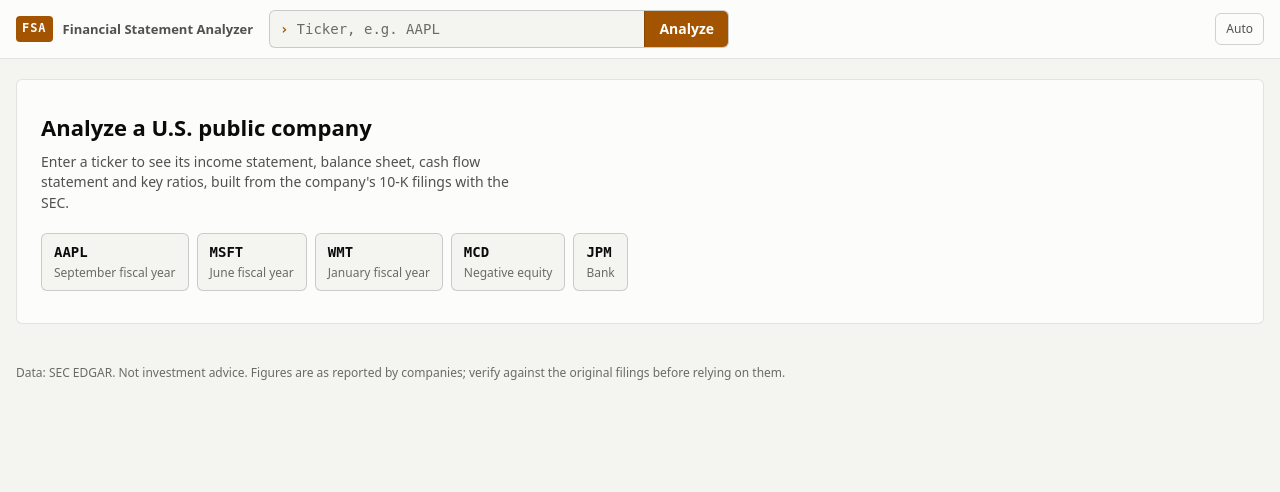
Test: AI analysis › explains the daily limit without offering a retry
This screenshot has width=1280, height=492.
Type "EXMP" into the field named "Company ticker" at (466,29), box 288,13 -> 644,45
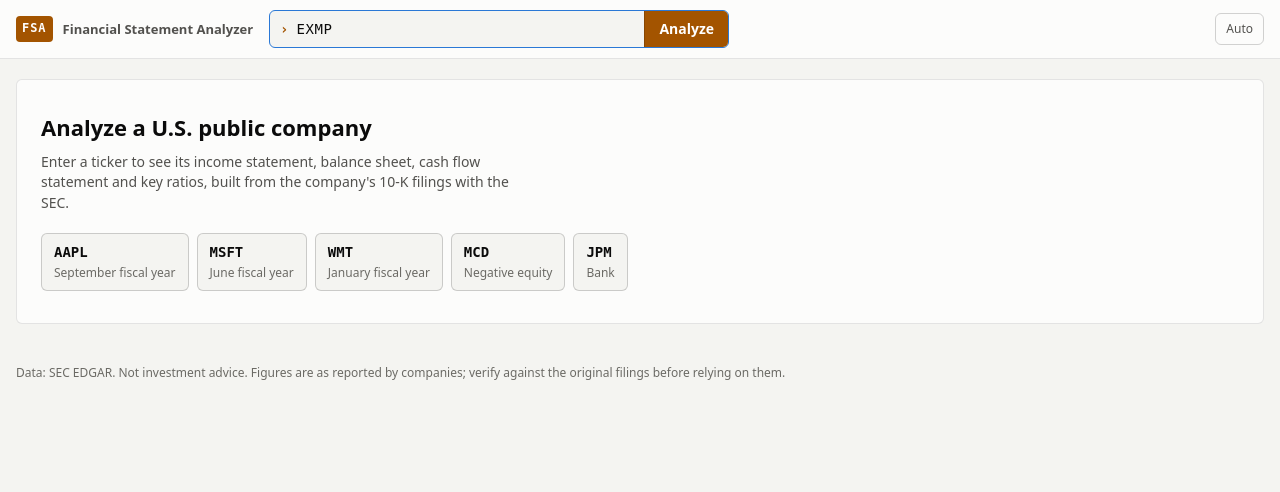
Click the button "Analyze" at (686,29), box 644,11 -> 728,47
(page scrolled)
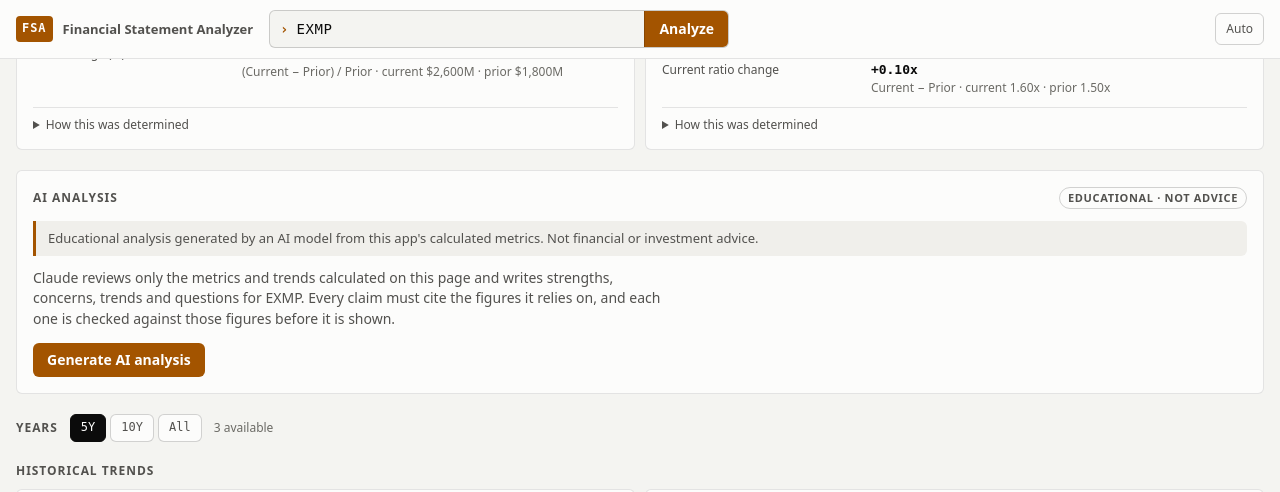
Click the button "Generate AI analysis" at (119,360), box 33,343 -> 205,377
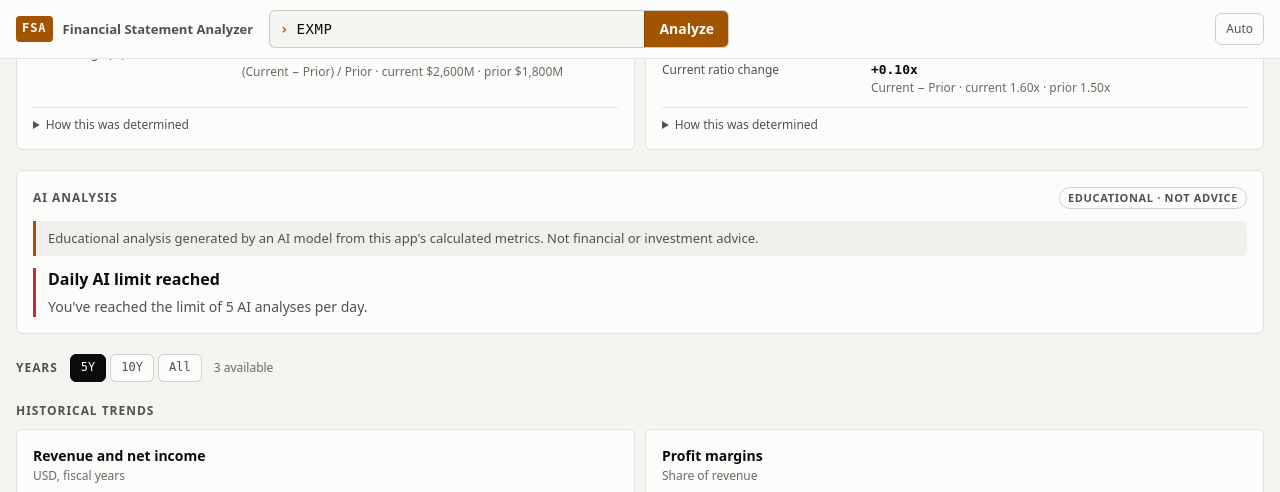
expect the message shows "Daily AI limit reached": met, box 48,268 -> 220,290
expect the button "Generate AI analysis" is gone: met
